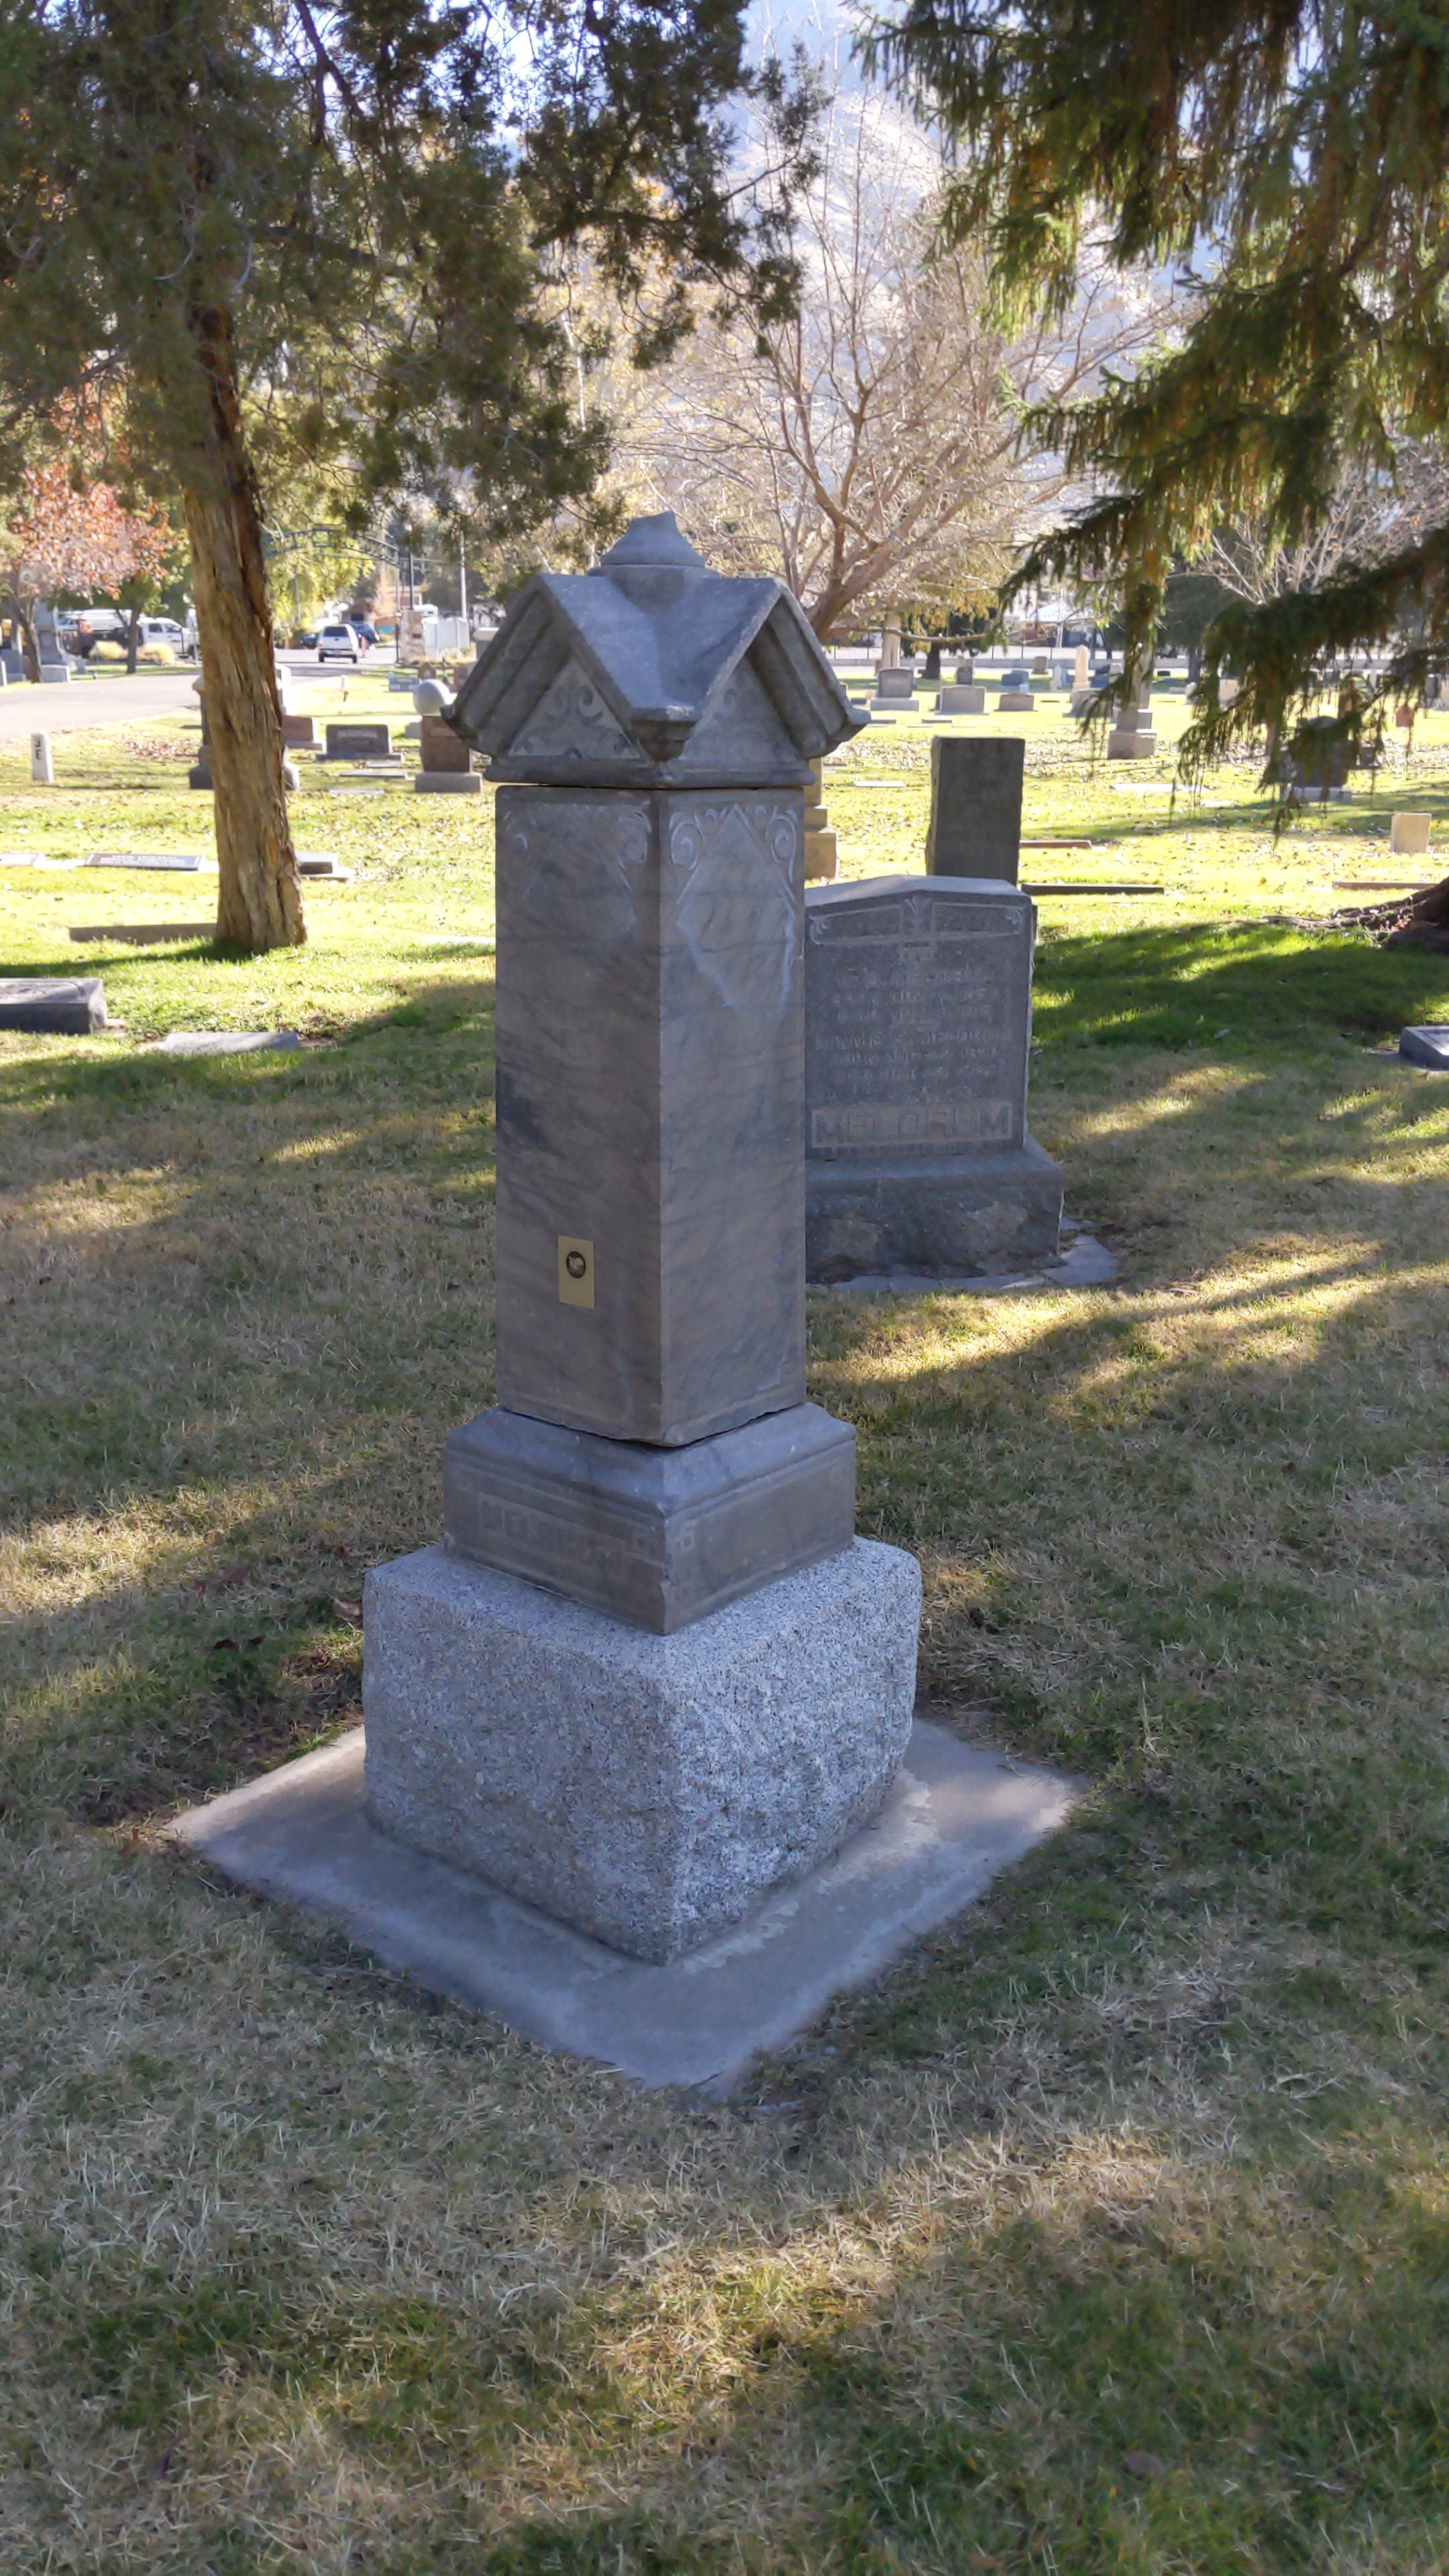obelisk: (430, 513, 853, 1622)
